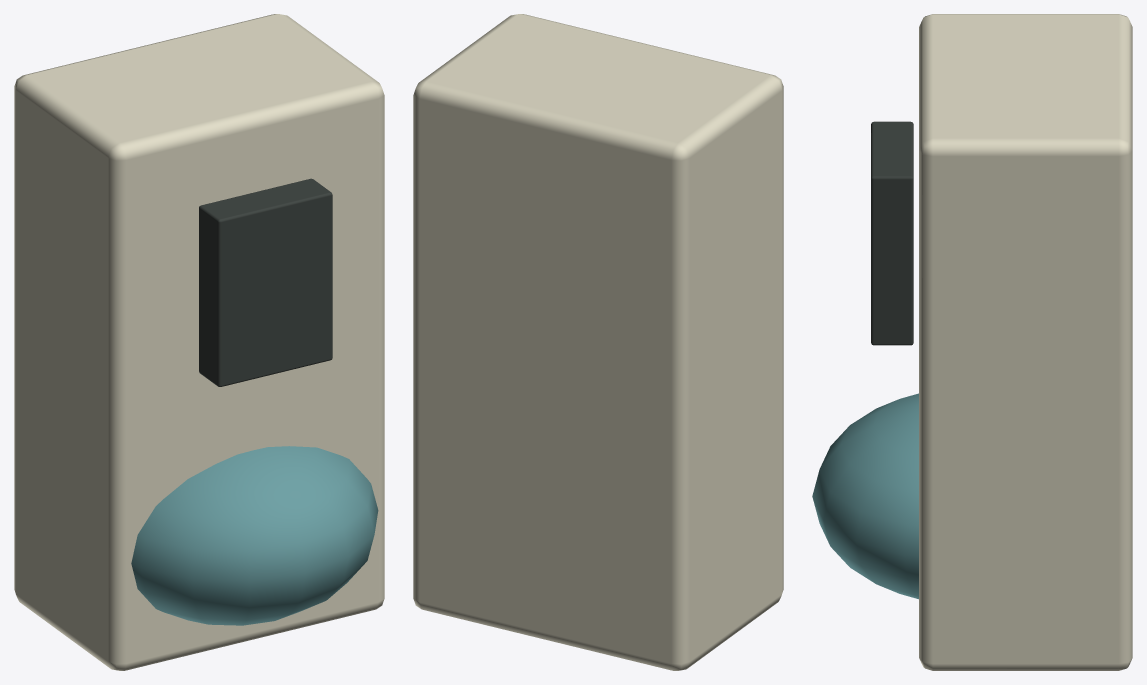
File: off-grid-power-and-controls-motion-detector-69fcb5dd__3023.glb
3 renders of one model, left to right at view 1: azimuth 30°, elevation 25°; view 2: azimuth 150°, elevation 25°; view 3: azimuth 270°, elevation 25°, orthographic.
Parts seen in each view (by area): view 1: motion-detector; view 2: motion-detector; view 3: motion-detector.
Part boxes in pixels (x1,y1,x2,y2): motion-detector: (14, 14, 384, 670); motion-detector: (413, 14, 783, 670); motion-detector: (812, 14, 1132, 670).
Bounding box in the file's own units: 0.06 × 0.11 × 0.06.
